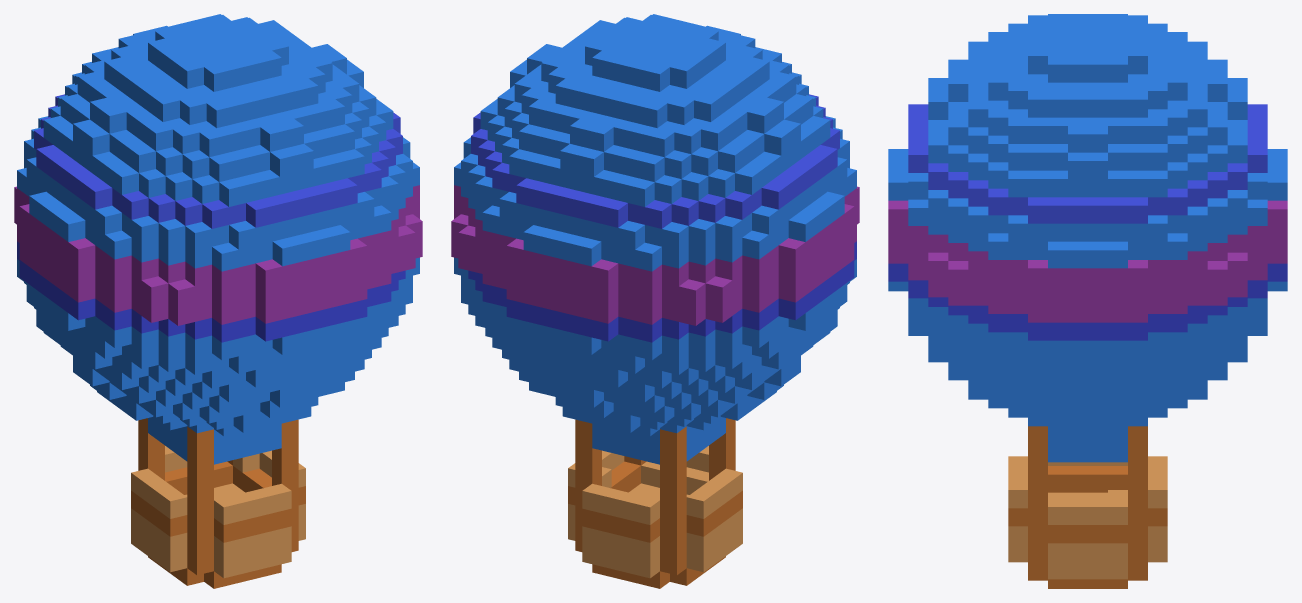
The model's file is hot_air_balloon_blue.glb.
The picture shows the model from 3 angles, left to right: view 1: azimuth 30°, elevation 25°; view 2: azimuth 150°, elevation 25°; view 3: azimuth 270°, elevation 25°; orthographic projection.
Parts seen in each view (by area): view 1: hot_air_balloon_purple.vox; view 2: hot_air_balloon_purple.vox; view 3: hot_air_balloon_purple.vox.
Part boxes in pixels (box(x1,y1,x2,y2)): hot_air_balloon_purple.vox: box(14, 14, 422, 588); hot_air_balloon_purple.vox: box(451, 14, 859, 588); hot_air_balloon_purple.vox: box(888, 14, 1287, 588).
Bounding box in the file's own units: 2 × 2.9 × 2.
1 material, 1 textured.
